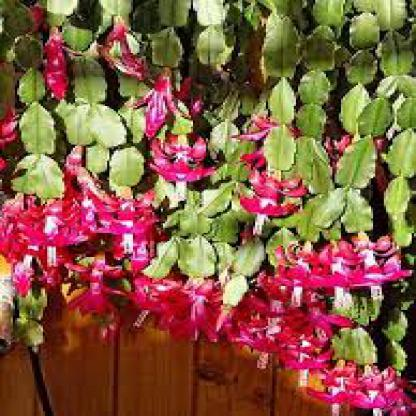Aglonema: (25, 56, 404, 347)
